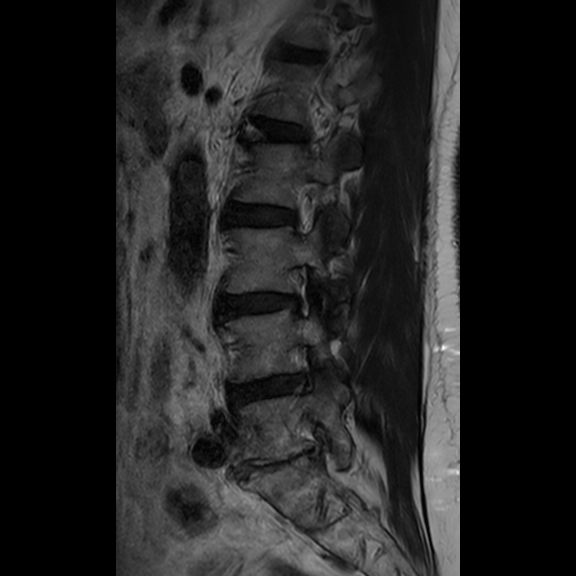LFS0: (282, 175, 331, 240)
